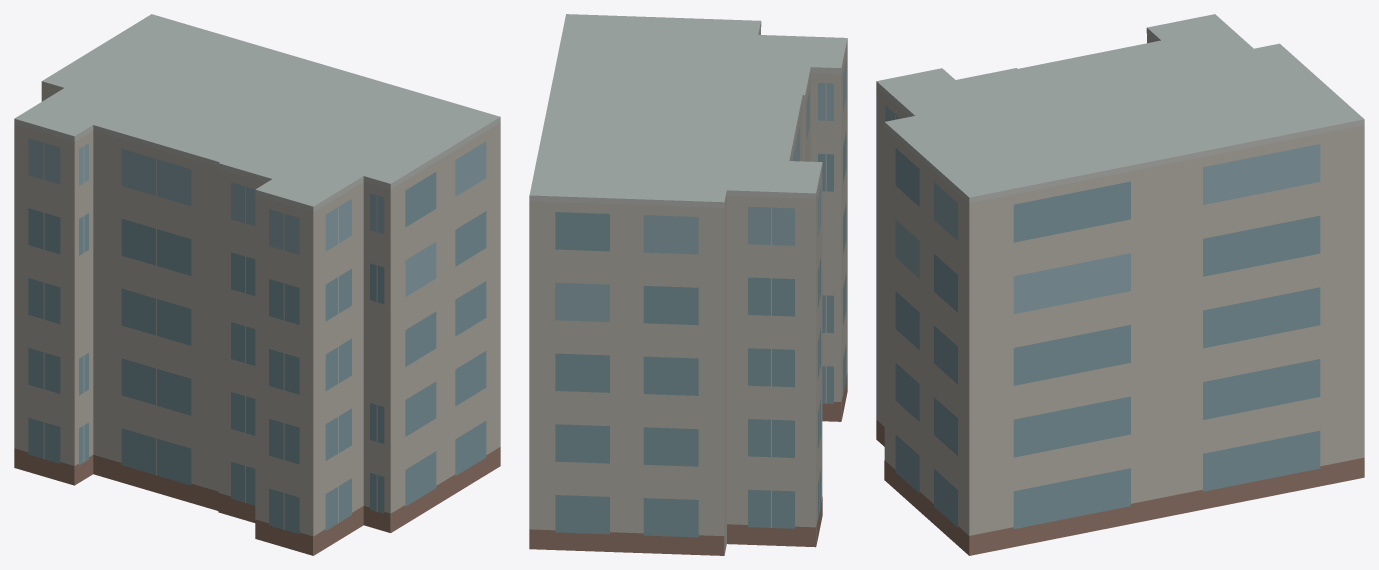
Rendered from survey-upis-32917830.glb.
The picture shows the model from 3 angles, left to right: view 1: azimuth 30°, elevation 25°; view 2: azimuth 150°, elevation 25°; view 3: azimuth 270°, elevation 25°; orthographic projection. The views are drawn at different scales.
Parts seen in each view (by area): view 1: survey-upis-32917830.tmp; view 2: survey-upis-32917830.tmp; view 3: survey-upis-32917830.tmp.
Part boxes in pixels (x1,y1,x2,y2): survey-upis-32917830.tmp: (14, 14, 500, 555); survey-upis-32917830.tmp: (529, 14, 847, 555); survey-upis-32917830.tmp: (876, 14, 1364, 555).
Size of the model in its own units: 16.77 by 15.25 by 18.84.
